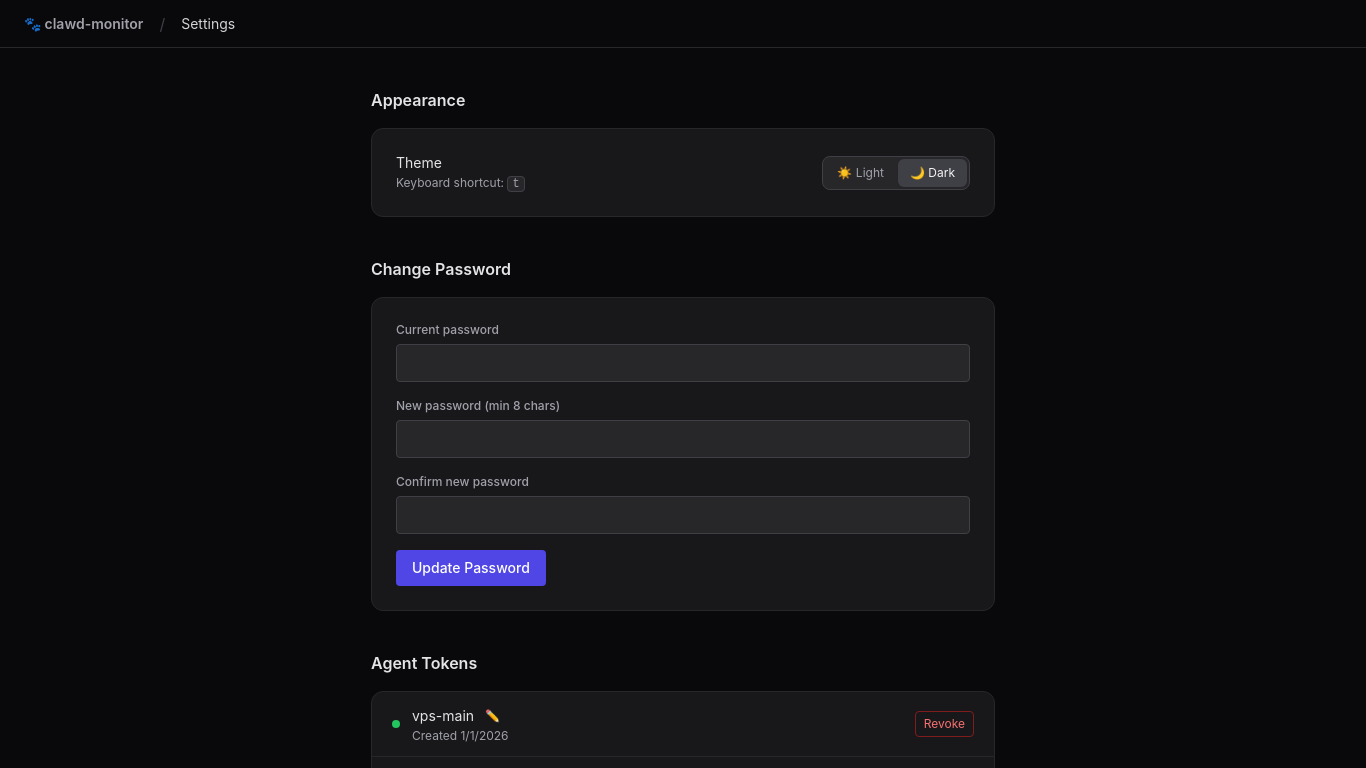
it: token revoke › shows an alert and keeps the token when the server rejects the delete
Click the button "Revoke" at (944, 724), box [915,711,974,737]
(page scrolled)
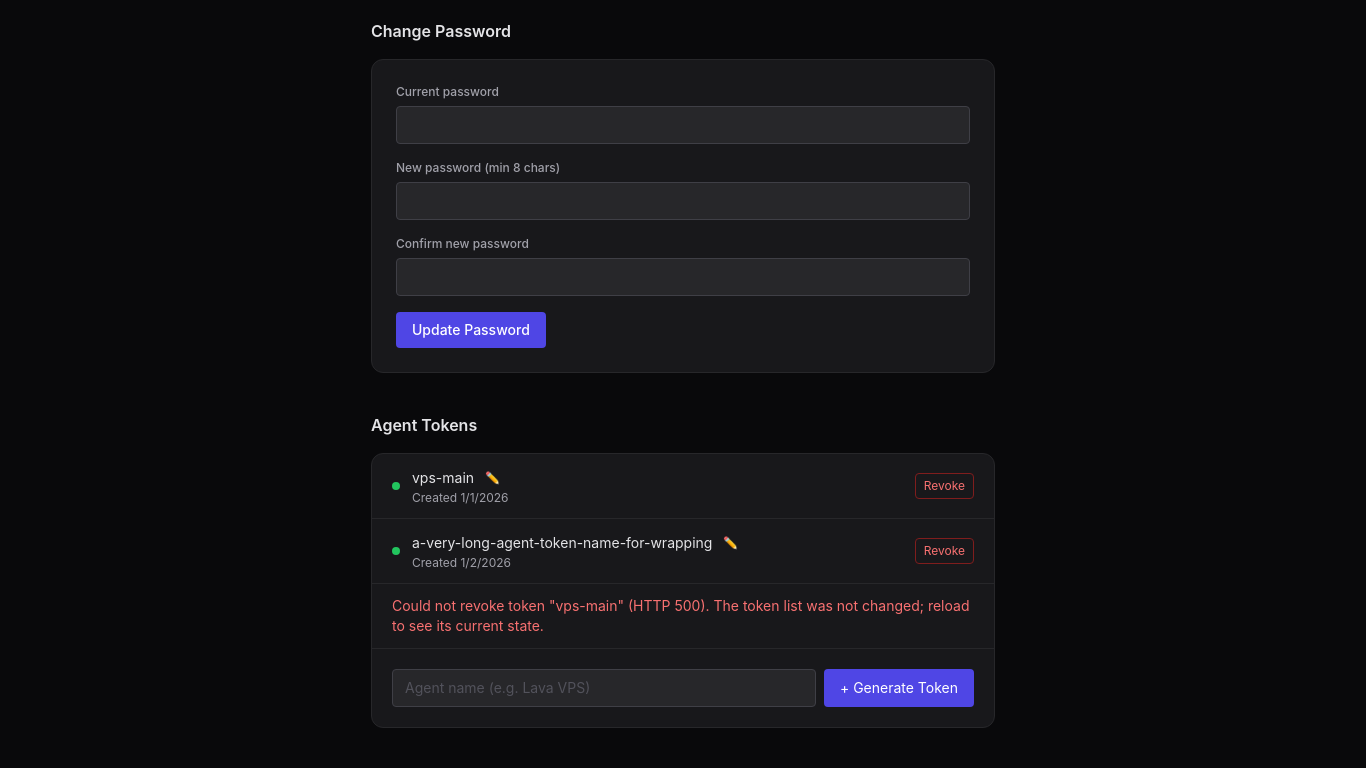
Now the message shows "vps-main", box [392,597,970,634]
Now the message shows "500", box [392,597,970,634]
